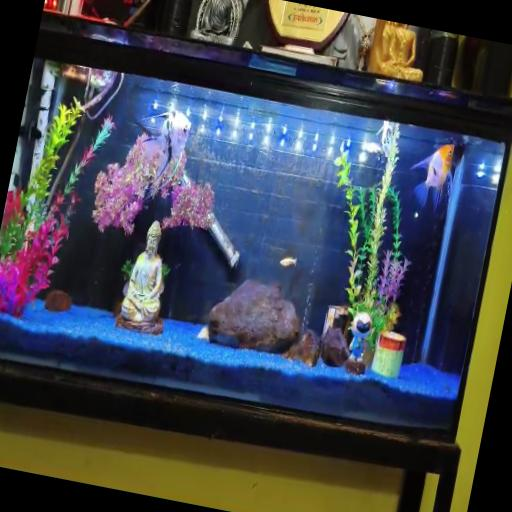Fish: (137, 110, 190, 191), (410, 145, 453, 210), (375, 121, 389, 146), (362, 142, 381, 153), (279, 257, 296, 267)
